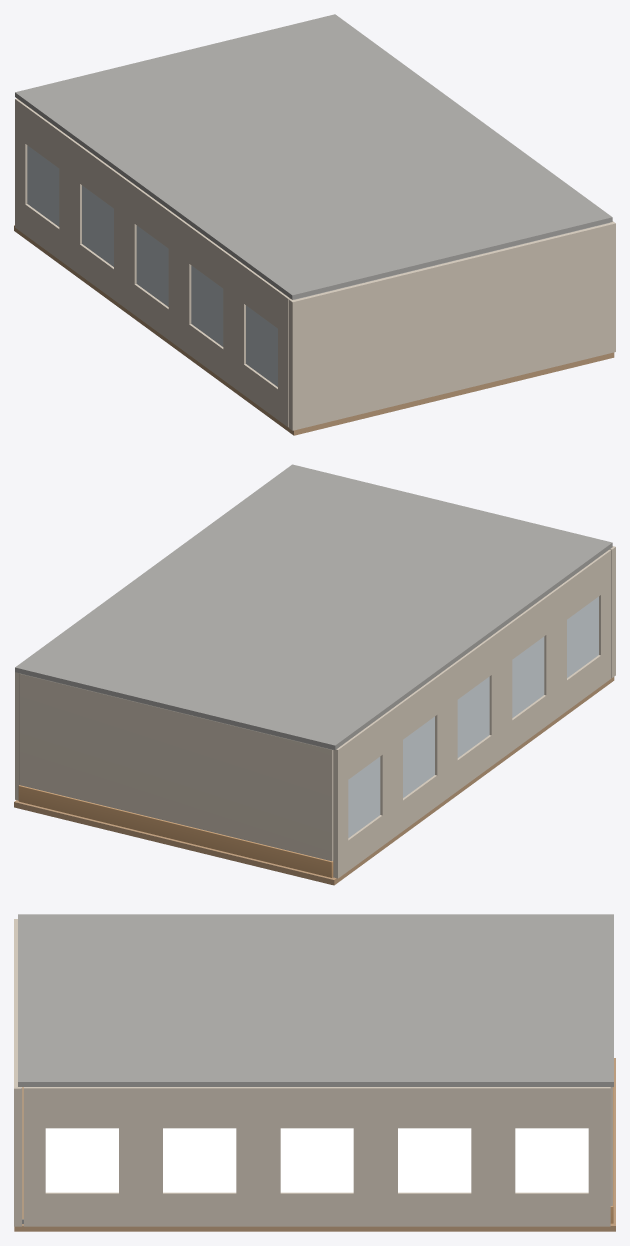
File: Auditorium.fbx
3 views of the same model, one above another, from view 1: azimuth 30°, elevation 25°; view 2: azimuth 150°, elevation 25°; view 3: azimuth 270°, elevation 25° (orthographic). The views are drawn at different scales.
Parts seen in each view (by area): view 1: Ceiling_Seam, Wall_Main, Window_Glass_L, Floor_Wood; view 2: Ceiling_Seam, Wall_Main, Window_Glass_L, Wood_Trim_B, Floor_Wood; view 3: Ceiling_Seam, Wall_Main, Window_Glass_R, Floor_Wood.
Part boxes in pixels (x1,y1,x2,y2): Ceiling_Seam: [15, 14, 612, 299]; Wall_Main: [15, 98, 615, 430]; Window_Glass_L: [27, 145, 277, 386]; Floor_Wood: [14, 225, 614, 435]; Ceiling_Seam: [15, 464, 612, 749]; Wall_Main: [15, 546, 615, 878]; Window_Glass_L: [348, 596, 598, 837]; Wood_Trim_B: [18, 785, 333, 877]; Floor_Wood: [14, 677, 614, 885]; Ceiling_Seam: [18, 914, 613, 1086]; Wall_Main: [14, 919, 612, 1226]; Window_Glass_R: [45, 1128, 588, 1192]; Floor_Wood: [14, 1058, 615, 1231].
Bounding box in the file's own units: 12.37 × 5.09 × 18.56.
